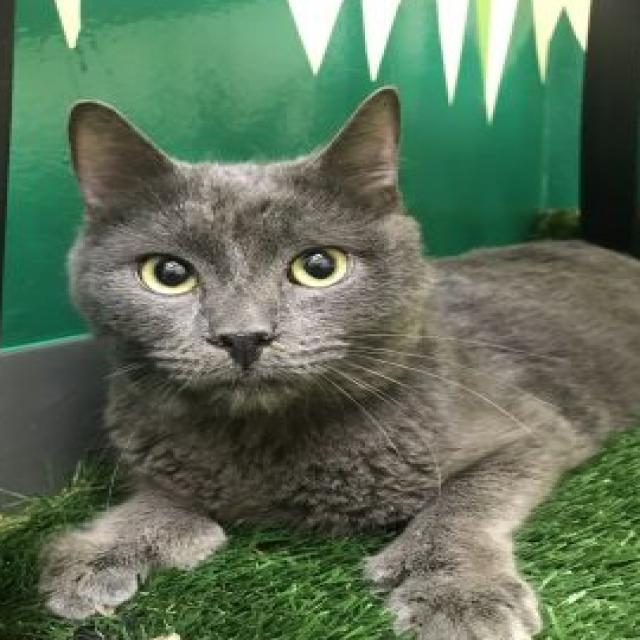Russian Blue: (26, 83, 640, 640)
